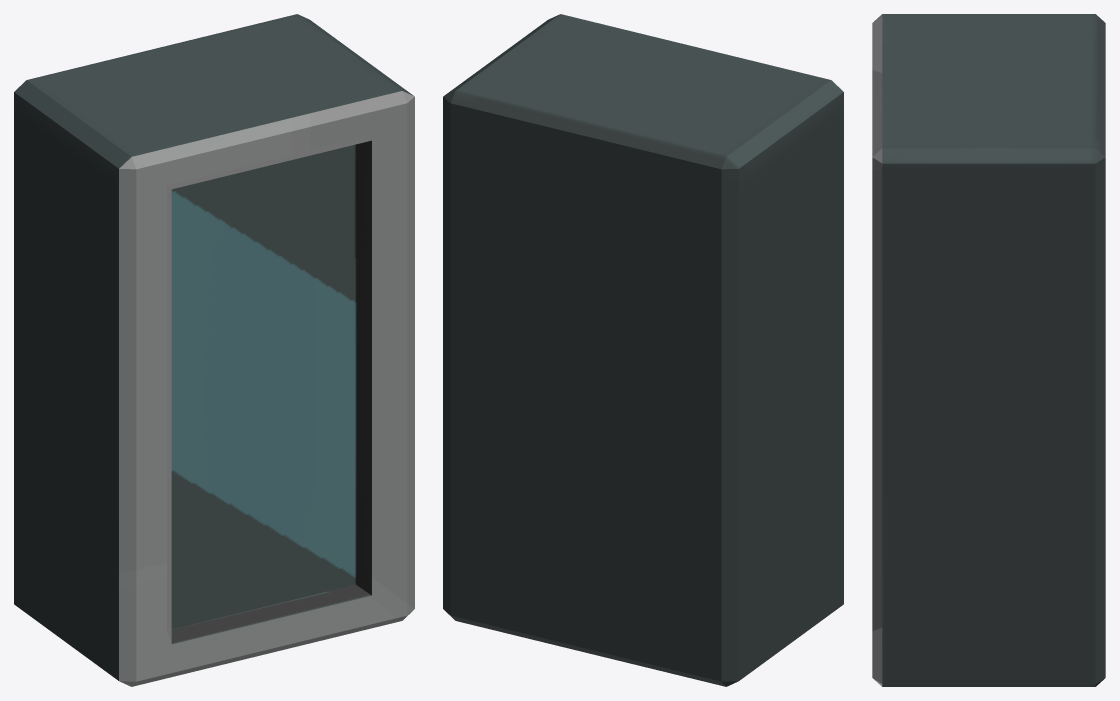
File: 61_ELM_RetangleGlass.fbx
The picture shows the model from 3 angles, left to right: view 1: azimuth 30°, elevation 25°; view 2: azimuth 150°, elevation 25°; view 3: azimuth 270°, elevation 25°; orthographic projection.
Parts seen in each view (by area): view 1: RetangleGlass, RimRetangleGlass; view 2: RetangleGlass; view 3: RetangleGlass, RimRetangleGlass.
Boxes of the visible parts, left/top/right/bottom form: RetangleGlass: left=14, top=14, right=414, bottom=685; RimRetangleGlass: left=119, top=91, right=414, bottom=686; RetangleGlass: left=443, top=14, right=843, bottom=686; RetangleGlass: left=873, top=14, right=1105, bottom=686; RimRetangleGlass: left=872, top=14, right=882, bottom=686.
Bounding box in the file's own units: 2.11 × 3.61 × 1.42.
